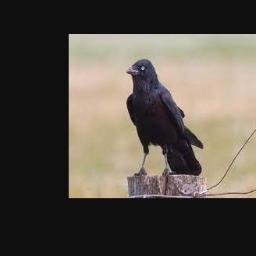Crow: (125, 58, 203, 175)
